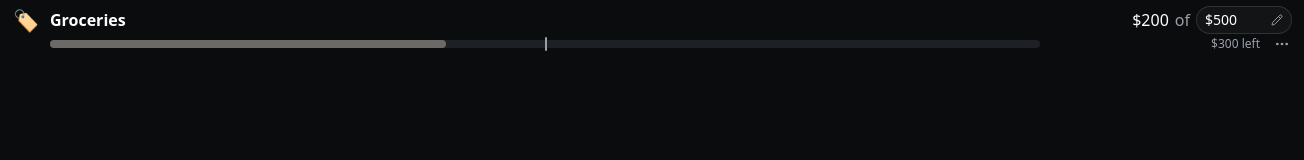
it: BudgetRow › in the Budgets card › closes the menu with Done
What coordinates should you click on to do the following:
click the button named "Actions for Groceries"
I would click on:
 (1279, 44)
Its box is [1266,28,1292,60].
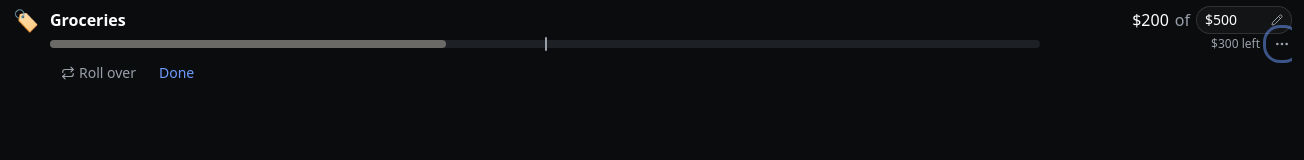
What coordinates should you click on to do the following:
click the button "Done"
I would click on:
 (177, 73)
Its box is [159,63,194,83].
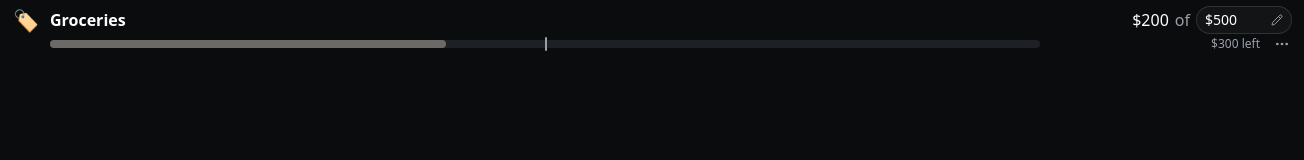
Result: the button "Roll over" is gone
